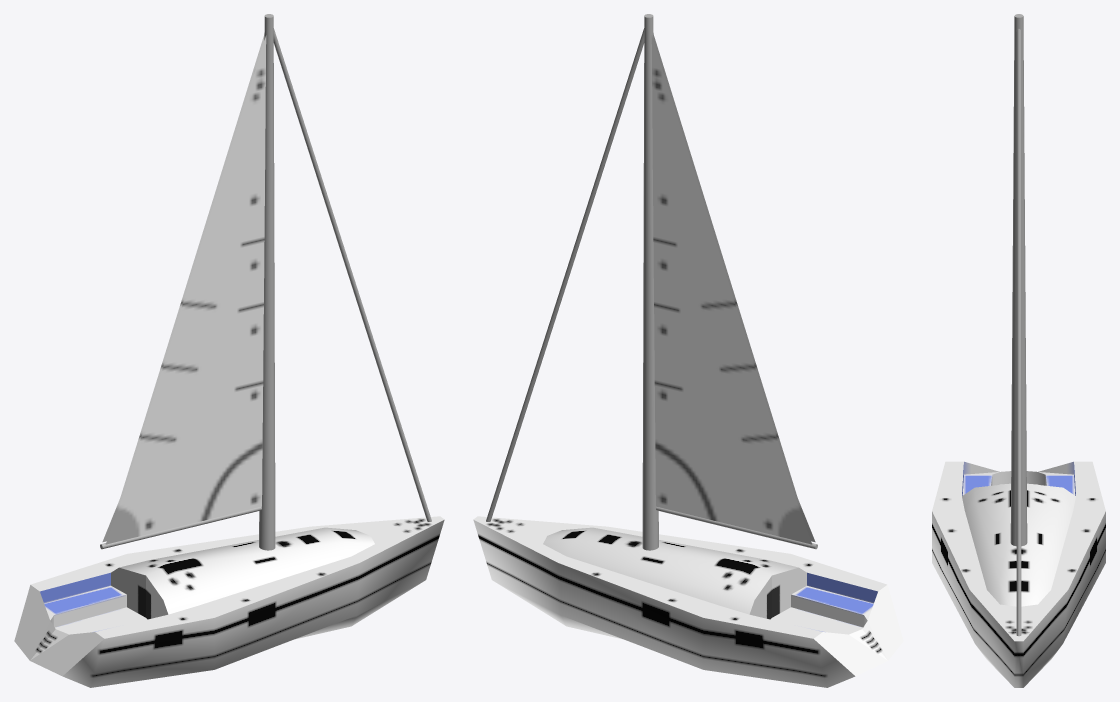
File: Cruiser.glb
3 views of the same model, side by side, from view 1: azimuth 30°, elevation 25°; view 2: azimuth 150°, elevation 25°; view 3: azimuth 270°, elevation 25° (orthographic).
Parts seen in each view (by area): view 1: Cruiser; view 2: Cruiser; view 3: Cruiser.
Part boxes in pixels (box(x1,y1,x2,y2)): Cruiser: box(14, 14, 444, 687); Cruiser: box(473, 14, 903, 687); Cruiser: box(932, 14, 1105, 687).
Size of the model in its own units: 11.05 by 15.73 by 4.06.
1 material, 1 textured.
